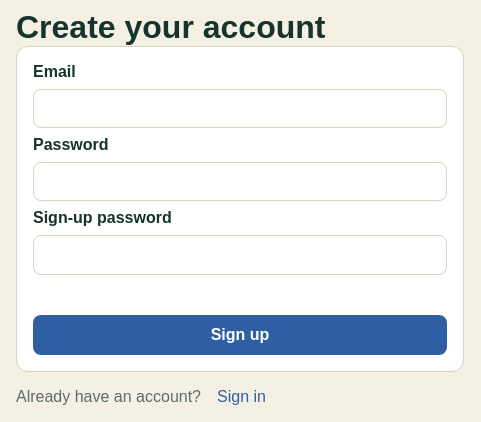
Test: a backend with sign-up closed says so
In the field labelled "Email": (240, 109) top-left (33, 89), bottom-right (447, 128), type "dana@example.com"
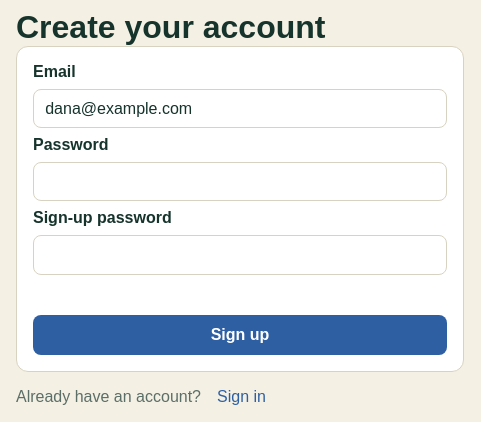
In the password field labelled "Password": (240, 182) top-left (33, 162), bottom-right (447, 201), type "cornhole1"
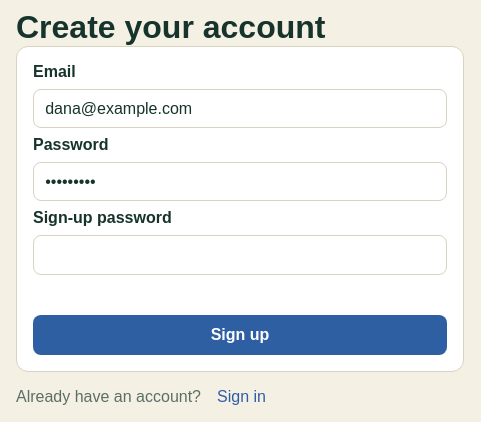
In the password field labelled "Sign-up password": (240, 255) top-left (33, 235), bottom-right (447, 275), type "class-pw"
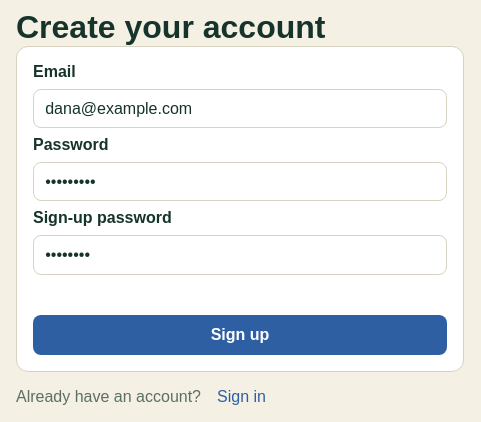
Click the button "Sign up": (240, 335) top-left (33, 315), bottom-right (447, 355)
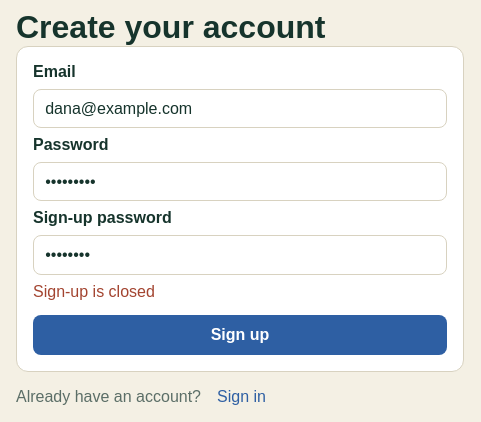
expect the text "Sign-up is closed" is shown: met, box top-left (33, 283), bottom-right (155, 300)
